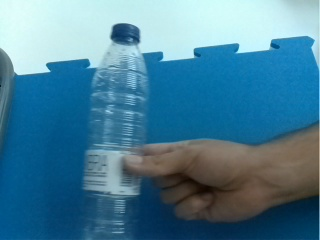botella plastico: (80, 23, 147, 240)
